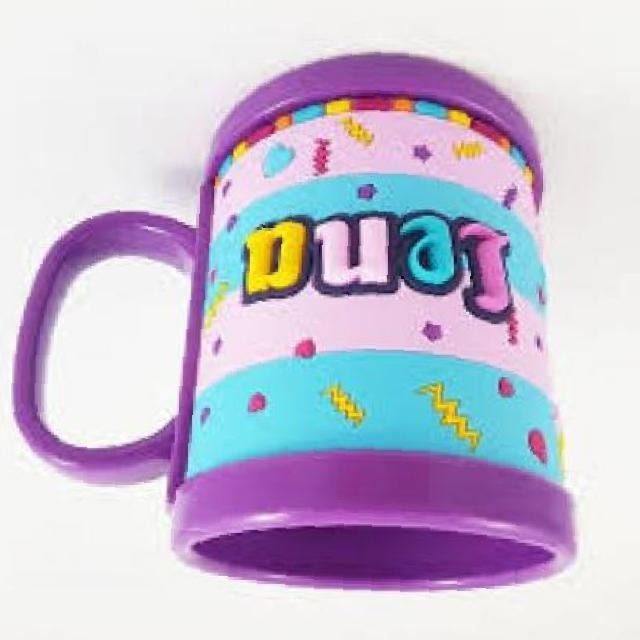cup: (1, 27, 607, 606)
